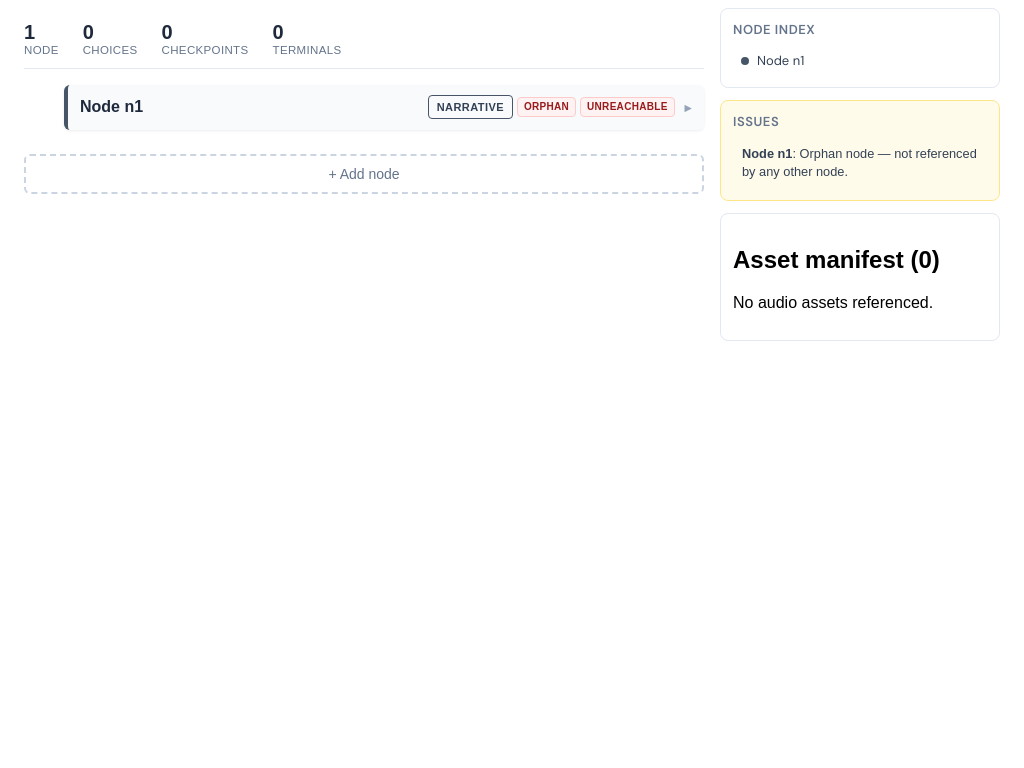
Scenario: OutlineView — semantic HTML › uses only permitted semantic elements
What coordinates should you click on to do the following:
click the button "Node n1 narrative Orphan Unreachable ▶"
I would click on:
 (112, 106)
Its box is [68,85,704,130].
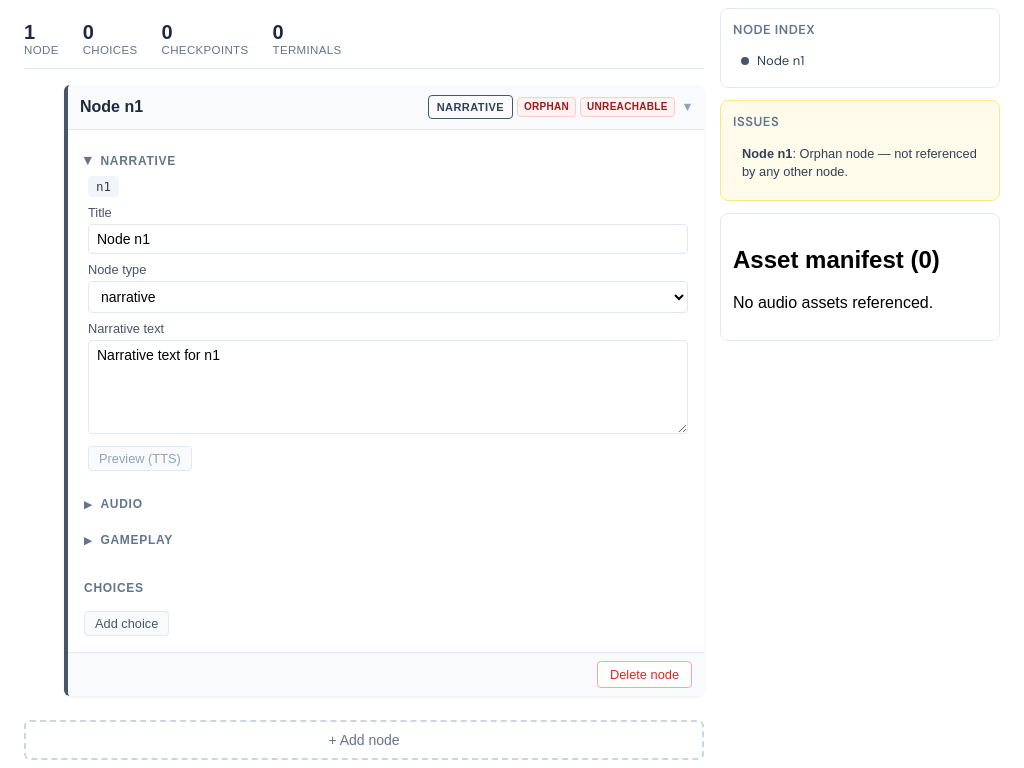
Expected: the list named "Adventure outline" is shown, [24,85,704,696]
Result: the text box labelled "Narrative text" is shown at [88,340,688,434]
Result: the dropdown labelled "Node type" is shown at [88,281,688,313]
